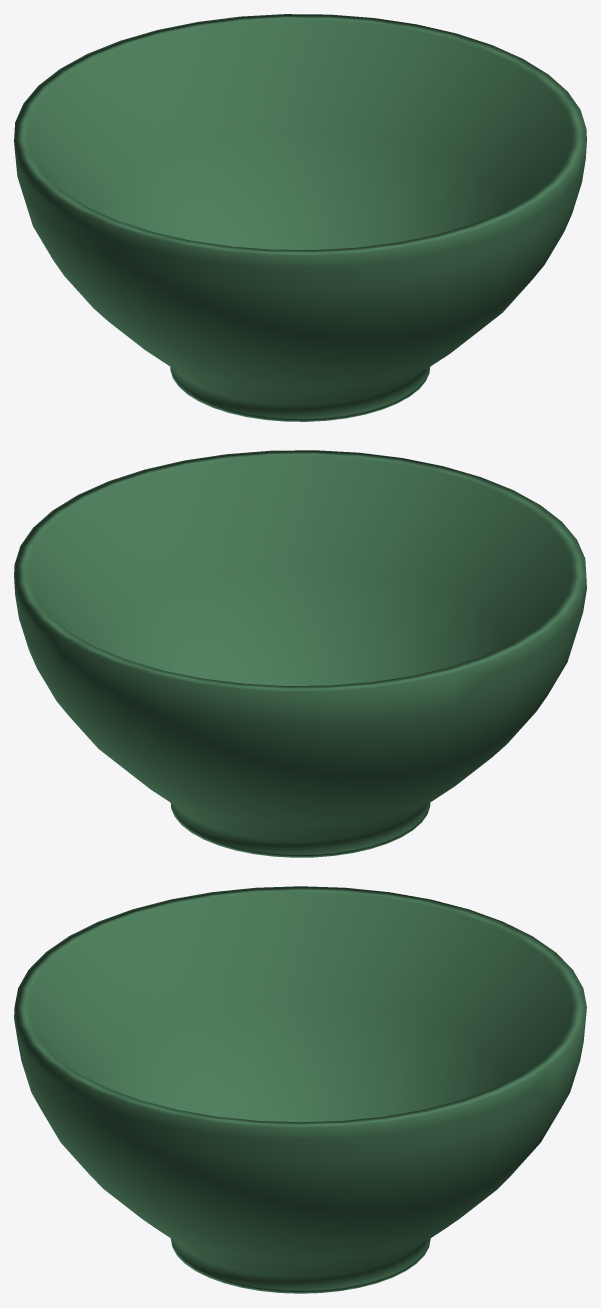
Rendered from Bowl.fbx.
3 views of the same model, one above another, from view 1: azimuth 30°, elevation 25°; view 2: azimuth 150°, elevation 25°; view 3: azimuth 270°, elevation 25° (orthographic).
Visible parts, largest first — view 1: Bowl; view 2: Bowl; view 3: Bowl.
Boxes of the visible parts, box(x1,y1,x2,y2) form: Bowl: box(14, 14, 586, 421); Bowl: box(14, 450, 586, 857); Bowl: box(14, 886, 586, 1293).
Size of the model in its own units: 21.79 by 9.79 by 21.77.
